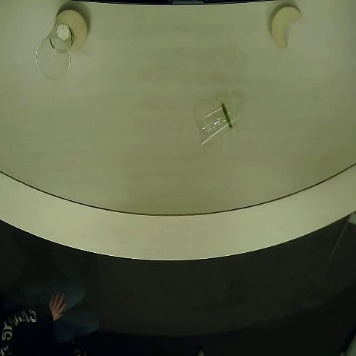empty_cup: (33, 23, 79, 81), (193, 90, 239, 148)
puck: (266, 5, 309, 55), (49, 2, 92, 52)
